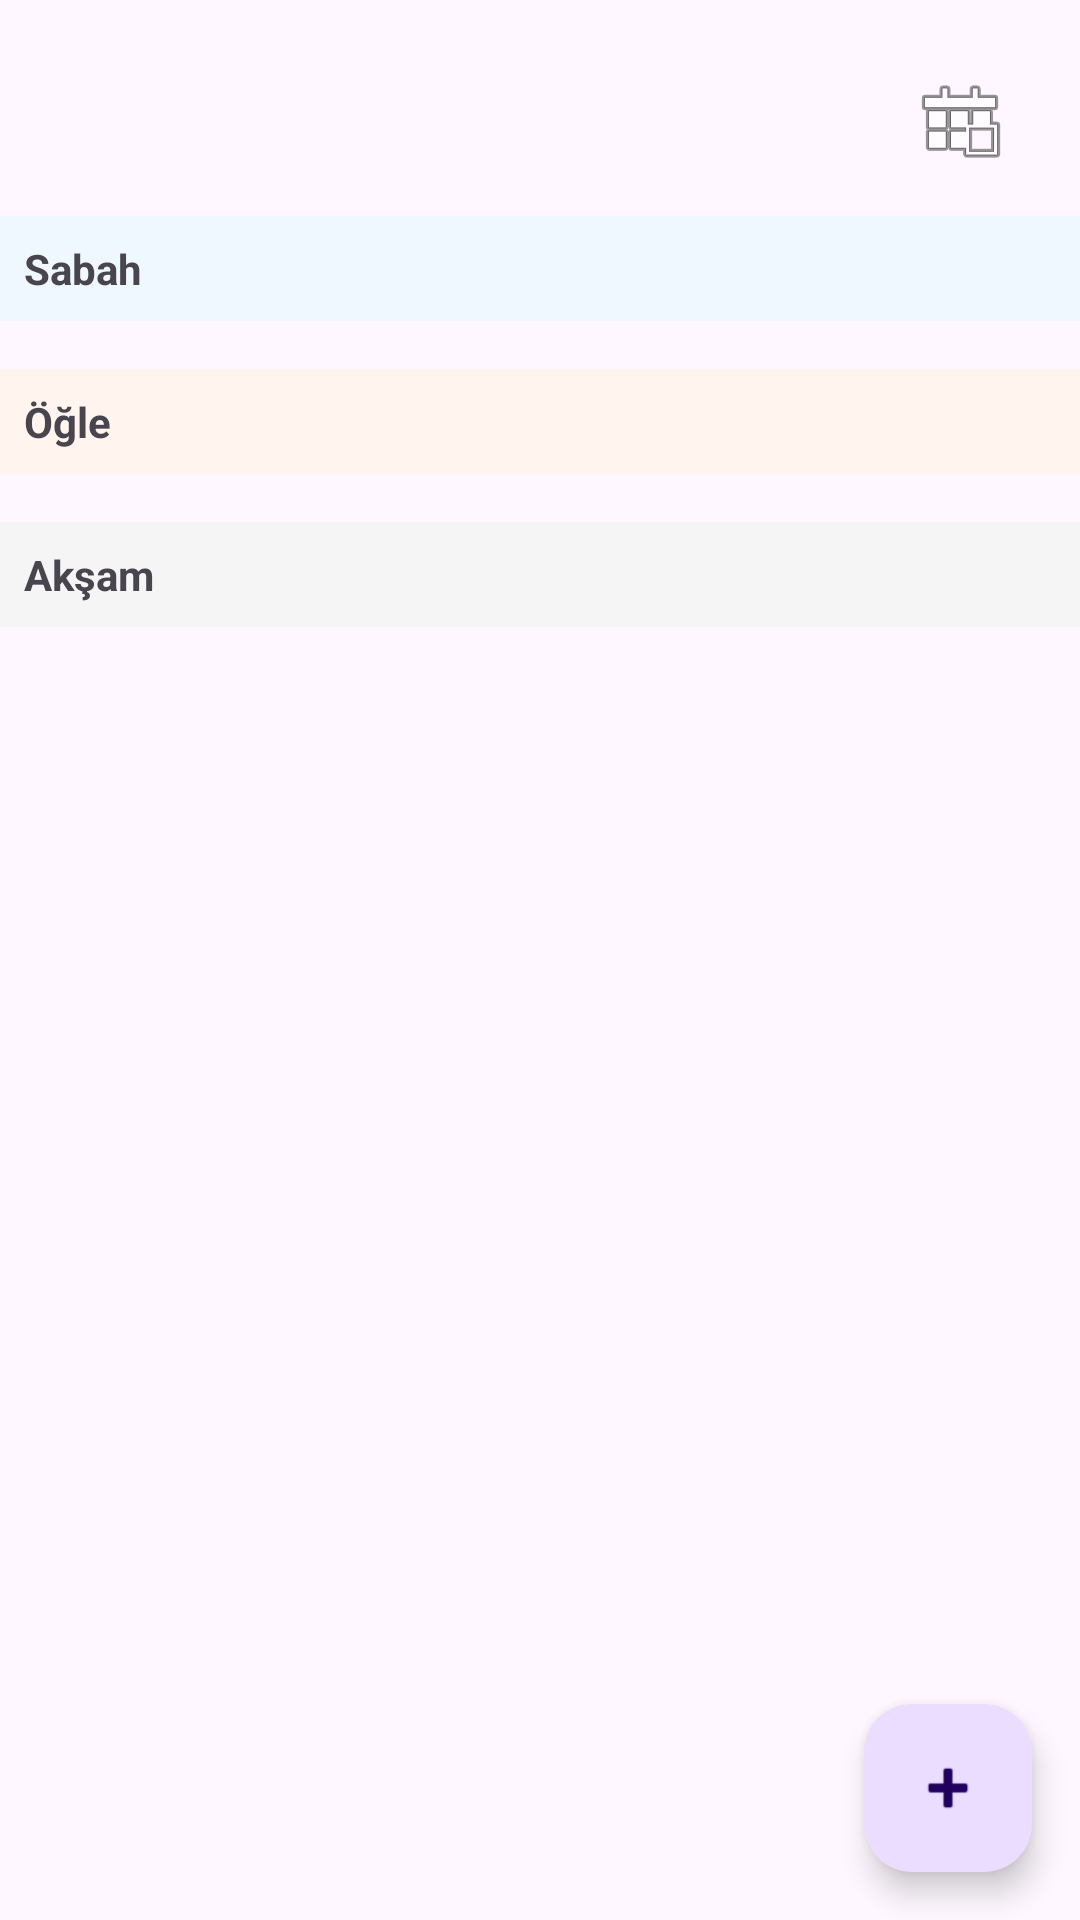

Named icons in this screenshot (1080*1920) and their centers, [x,y]:
Tarih Seç: [961,121]
Yeni Görev Ekle: [948,1788]
